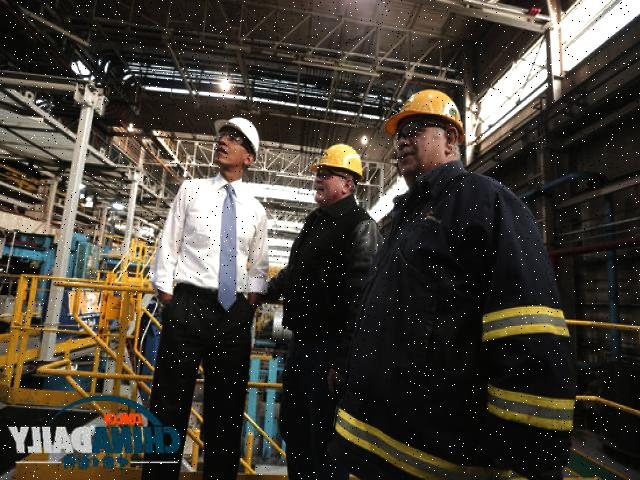Helmet: (380, 84, 470, 145), (311, 138, 368, 183), (210, 112, 266, 156)
